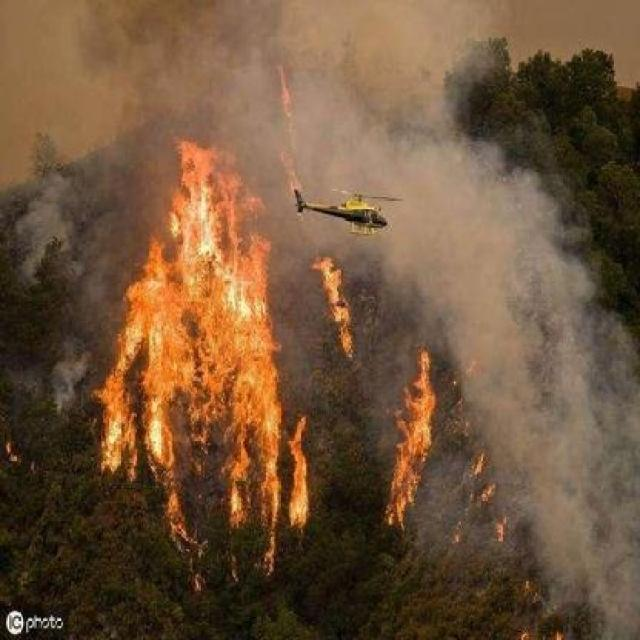Fire: (97, 126, 314, 592), (389, 314, 442, 536), (470, 448, 512, 544), (320, 245, 351, 356), (522, 572, 569, 640), (1, 433, 16, 462)
Smoke: (6, 0, 466, 178), (492, 175, 636, 570), (342, 132, 512, 322)
